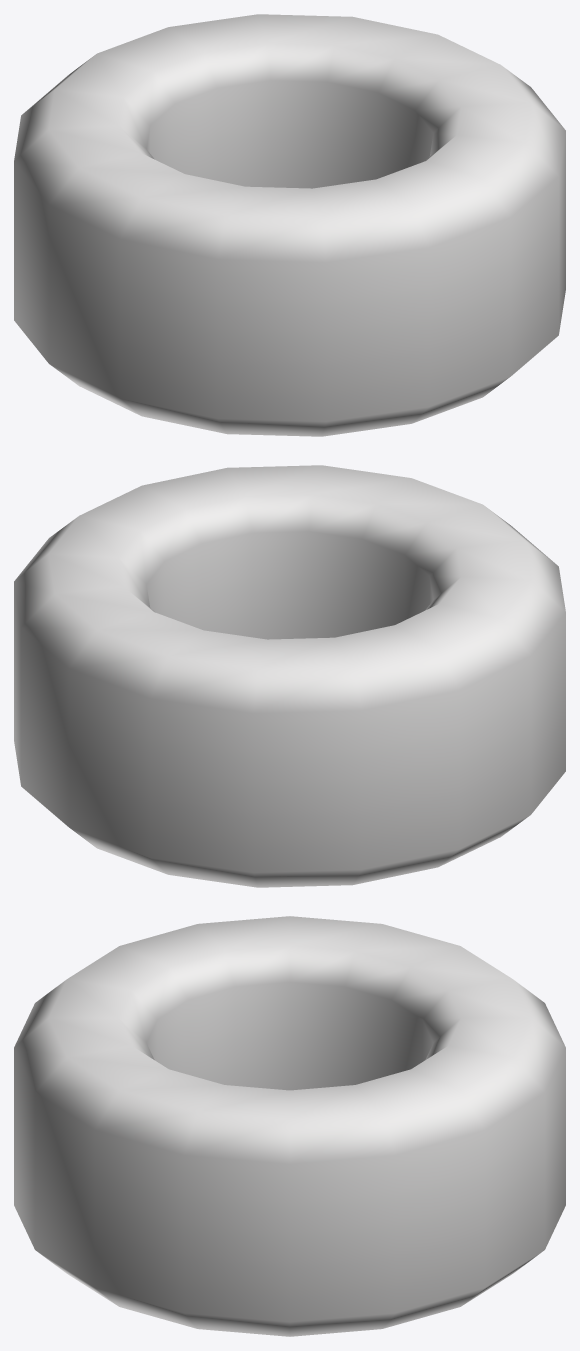
The model's file is Barrier_Wheel_03.fbx.
3 views of the same model, one above another, from view 1: azimuth 30°, elevation 25°; view 2: azimuth 150°, elevation 25°; view 3: azimuth 270°, elevation 25° (orthographic).
Visible parts, largest first — view 1: Barrier_Wheel_03; view 2: Barrier_Wheel_03; view 3: Barrier_Wheel_03.
Boxes of the visible parts, box(x1,y1,x2,y2) form: Barrier_Wheel_03: box(14, 14, 565, 436); Barrier_Wheel_03: box(14, 465, 565, 887); Barrier_Wheel_03: box(14, 916, 565, 1336).
Size of the model in its own units: 100 by 100 by 43.33.
